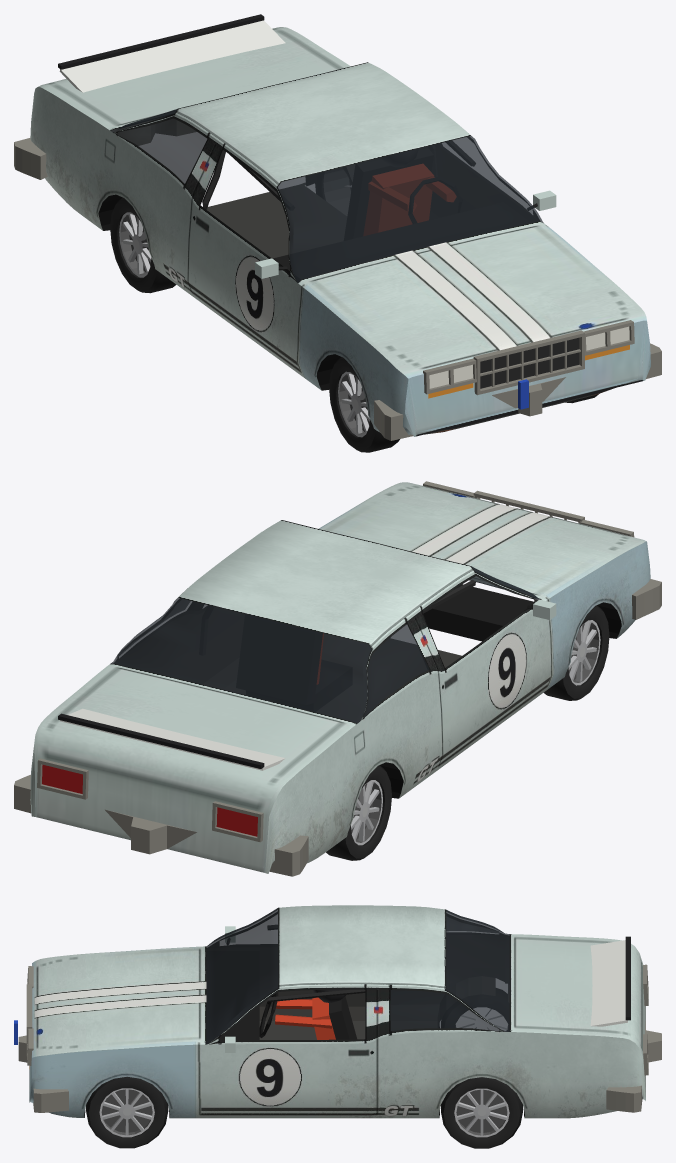
3 views of the same model, one above another, from view 1: azimuth 30°, elevation 25°; view 2: azimuth 150°, elevation 25°; view 3: azimuth 270°, elevation 25° (orthographic). The views are drawn at different scales.
Parts seen in each view (by area): view 1: body, wheel_fr, wheel_rr, wheel_rl; view 2: body, wheel_rr, wheel_fr; view 3: body, wheel_fl, wheel_rl, wheel_rr.
Part boxes in pixels (x1,y1,x2,y2): body: (14, 14, 661, 440); wheel_fr: (329, 357, 399, 452); wheel_rr: (110, 197, 176, 293); wheel_rl: (315, 167, 352, 215); body: (14, 481, 661, 876); wheel_rr: (326, 765, 391, 860); wheel_fr: (543, 605, 609, 700); body: (14, 905, 661, 1118); wheel_fl: (86, 1076, 168, 1148); wheel_rl: (441, 1077, 522, 1148); wheel_rr: (441, 988, 509, 1031).
Bounding box in the file's own units: 2.09 × 1.34 × 4.9.
Materials: 2 (1 with a texture image).
